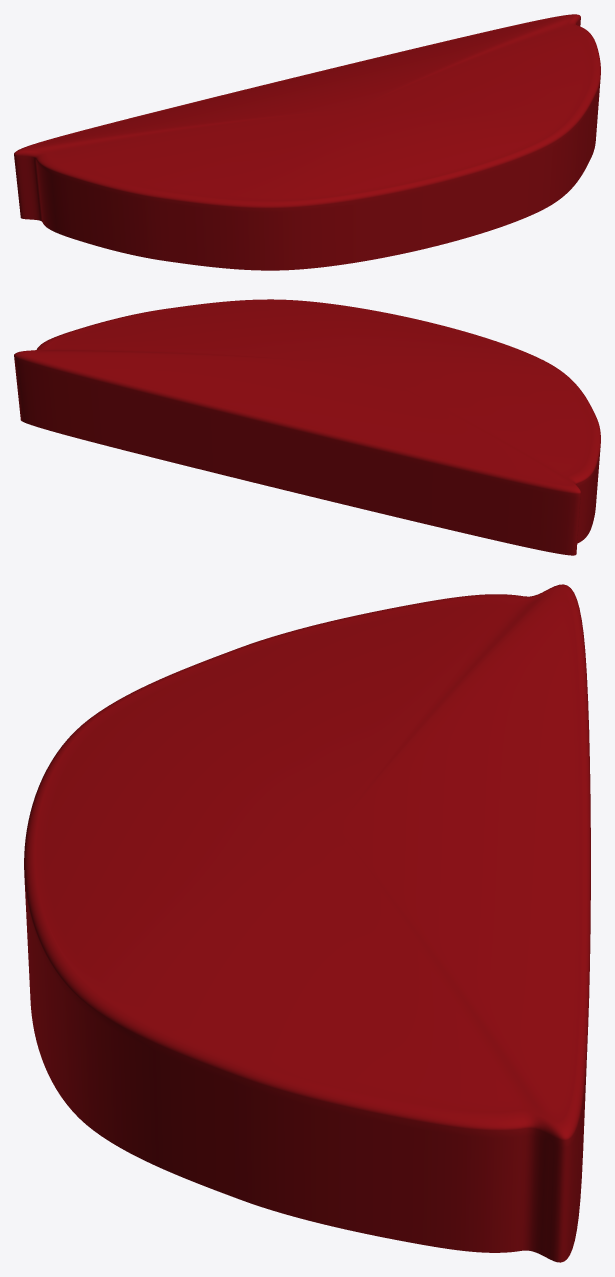
The model's file is tail-lamp-outer-lens-v1.glb.
The picture shows the model from 3 angles, top to bottom: view 1: azimuth 30°, elevation 25°; view 2: azimuth 150°, elevation 25°; view 3: azimuth 270°, elevation 25°; orthographic projection. The views are drawn at different scales.
Visible parts, largest first — view 1: EXTERIOR_CHILD; view 2: EXTERIOR_CHILD; view 3: EXTERIOR_CHILD.
Part boxes in pixels (x1=…): EXTERIOR_CHILD: x1=14, y1=14, x2=600, y2=270; EXTERIOR_CHILD: x1=14, y1=299, x2=600, y2=555; EXTERIOR_CHILD: x1=24, y1=584, x2=590, y2=1262.
Size of the model in its own units: 0.1589 by 0.022 by 0.0689.
